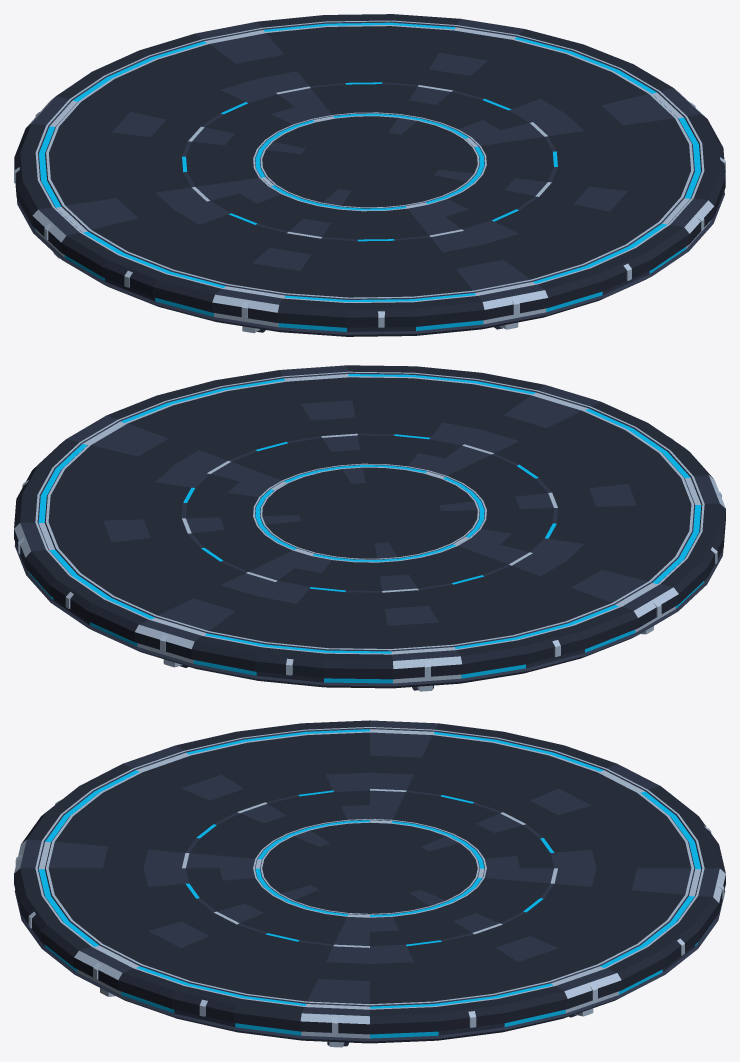
File: SM_Hub_PlazaPlatform_01.obj
3 renders of one model, top to bottom at view 1: azimuth 30°, elevation 25°; view 2: azimuth 150°, elevation 25°; view 3: azimuth 270°, elevation 25°, orthographic.
Visible parts, largest first — view 1: GEO_PlazaPlatform_Deck, GEO_PlazaPlatform_DeckInlays, GEO_PlazaPlatform_Rim, GEO_PlazaPlatform_Trim, GEO_PlazaPlatform_CyanAccents, GEO_PlazaPlatform_Structure; view 2: GEO_PlazaPlatform_Deck, GEO_PlazaPlatform_DeckInlays, GEO_PlazaPlatform_Rim, GEO_PlazaPlatform_Trim, GEO_PlazaPlatform_CyanAccents, GEO_PlazaPlatform_Structure; view 3: GEO_PlazaPlatform_Deck, GEO_PlazaPlatform_DeckInlays, GEO_PlazaPlatform_Rim, GEO_PlazaPlatform_Trim, GEO_PlazaPlatform_CyanAccents, GEO_PlazaPlatform_Structure.
Boxes of the visible parts, left/top/right/bottom form: GEO_PlazaPlatform_Deck: left=49, top=26, right=690, bottom=297; GEO_PlazaPlatform_DeckInlays: left=38, top=21, right=701, bottom=299; GEO_PlazaPlatform_Rim: left=14, top=14, right=725, bottom=336; GEO_PlazaPlatform_Trim: left=14, top=20, right=725, bottom=333; GEO_PlazaPlatform_CyanAccents: left=34, top=22, right=711, bottom=331; GEO_PlazaPlatform_Structure: left=17, top=19, right=724, bottom=334; GEO_PlazaPlatform_Deck: left=48, top=377, right=691, bottom=648; GEO_PlazaPlatform_DeckInlays: left=37, top=372, right=702, bottom=651; GEO_PlazaPlatform_Rim: left=14, top=365, right=725, bottom=688; GEO_PlazaPlatform_Trim: left=14, top=371, right=725, bottom=691; GEO_PlazaPlatform_CyanAccents: left=29, top=374, right=704, bottom=683; GEO_PlazaPlatform_Structure: left=14, top=365, right=723, bottom=690; GEO_PlazaPlatform_Deck: left=48, top=732, right=691, bottom=1003; GEO_PlazaPlatform_DeckInlays: left=37, top=728, right=702, bottom=1006; GEO_PlazaPlatform_Rim: left=14, top=720, right=725, bottom=1043; GEO_PlazaPlatform_Trim: left=14, top=727, right=725, bottom=1047; GEO_PlazaPlatform_CyanAccents: left=38, top=729, right=710, bottom=1038; GEO_PlazaPlatform_Structure: left=14, top=720, right=725, bottom=1046.
Bounding box in the file's own units: 140 × 12 × 140.
Materials: 4 (4 with a texture image).
